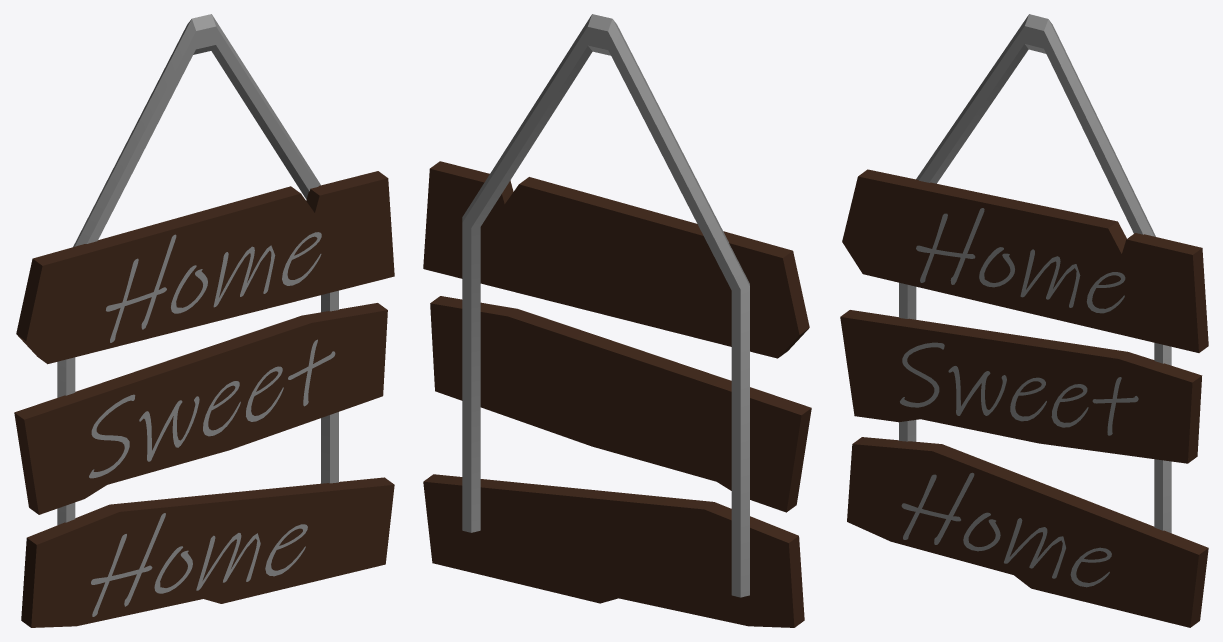
File: sign.FBX
3 views of the same model, side by side, from view 1: azimuth 30°, elevation 25°; view 2: azimuth 150°, elevation 25°; view 3: azimuth 330°, elevation 25° (orthographic). The views are drawn at different scales.
Visible parts, largest first — view 1: sign; view 2: sign; view 3: sign.
Part boxes in pixels (bbox=[...]): sign: bbox=[14, 14, 394, 627]; sign: bbox=[423, 14, 811, 627]; sign: bbox=[840, 14, 1208, 627].
Bounding box in the file's own units: 120 × 180 × 11.15.
